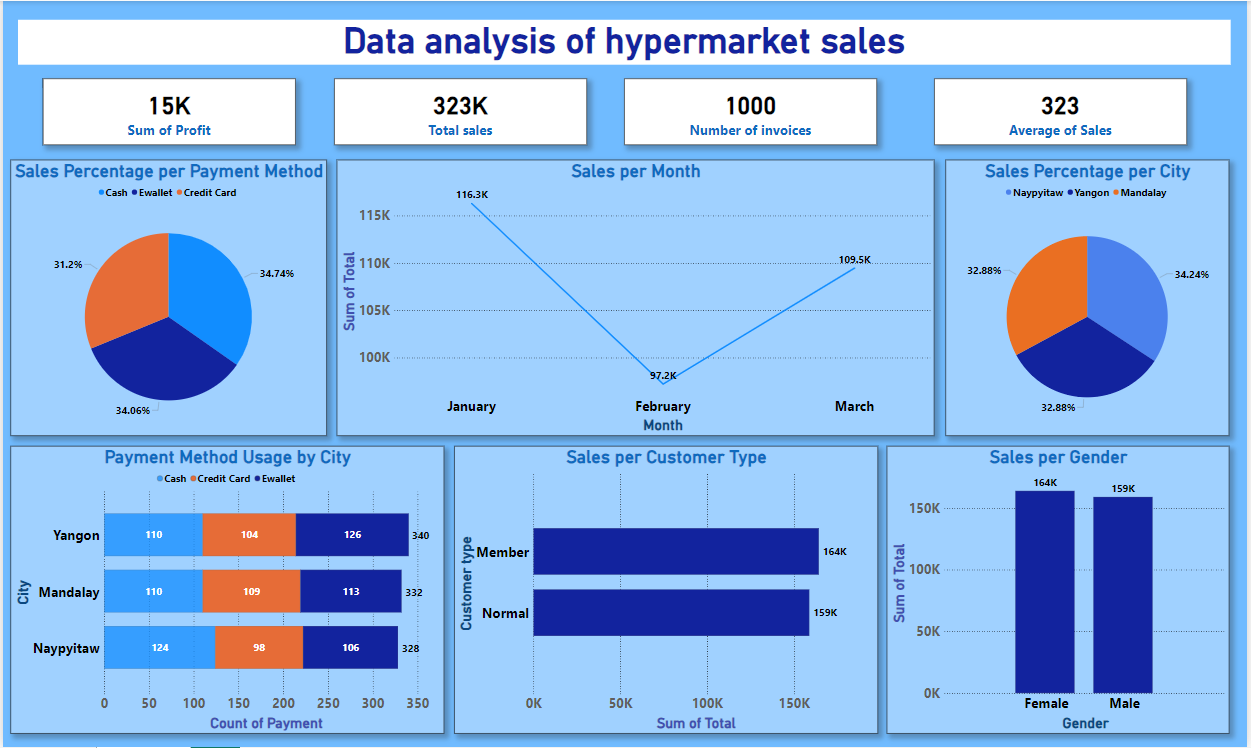

This screenshot's page, from the dashboard's own definition file:
{"tool":"powerbi","page":{"name":"Page 1","canvas":[2500,1500],"ordinal":0},"visuals":[{"type":"card","fields":{"Values":["CountNonNull(Hypermarket_Sales Task (3).Invoice ID)"]},"box":[1249.2,155.8,507.7,133.2],"z":0},{"type":"pieChart","title":"Sales Percentage per City","fields":{"Y":["Sum(Hypermarket_Sales Task (3).Total)"],"Category":["Hypermarket_Sales Task (3).City"]},"box":[1895.1,319.2,570.5,555.5],"z":1000},{"type":"card","fields":{"Values":["Sum(Hypermarket_Sales Task (3).Total)"]},"box":[664.8,155.8,507.7,133.2],"z":2000},{"type":"pieChart","title":"Sales Percentage per Payment Method","fields":{"Y":["Sum(Hypermarket_Sales Task (3).Total)"],"Category":["Hypermarket_Sales Task (3).Payment"]},"box":[15.1,319.2,635.9,555.5],"z":3000},{"type":"card","fields":{"Values":["Avg(Hypermarket_Sales Task (3).Total)"]},"box":[1872.5,155.8,507.7,133.2],"z":4000},{"type":"barChart","title":"Sales per Customer Type","fields":{"Category":["Hypermarket_Sales Task (3).Customer type"],"Y":["Sum(Hypermarket_Sales Task (3).Total)"]},"box":[907.3,894.8,852,578.1],"z":5000},{"type":"barChart","title":"Payment Method Usage by City","fields":{"Category":["Hypermarket_Sales Task (3).City"],"Series":["Hypermarket_Sales Task (3).Payment"],"Y":["CountNonNull(Hypermarket_Sales Task (3).Payment)"]},"box":[15.1,894.8,872.2,578.1],"z":6000},{"type":"columnChart","title":"Sales per Gender","fields":{"Category":["Hypermarket_Sales Task (3).Gender"],"Y":["Sum(Hypermarket_Sales Task (3).Total)"]},"box":[1777,894.8,688.7,578.1],"z":7000},{"type":"lineChart","title":"Sales per Month","fields":{"Y":["Sum(Hypermarket_Sales Task (3).Total)"],"Category":["Hypermarket_Sales Task (3).Date.Variation.Date Hierarchy.Month"]},"box":[671.1,319.2,1201.4,555.5],"z":8000},{"type":"card","title":"Data analysis of hypermarket sales","fields":{"Values":["Min(Hypermarket_Sales Task (3).Gender)"]},"box":[30.2,37.7,2438,90.5],"z":9000},{"type":"card","fields":{"Values":["Sum(Hypermarket_Sales Task (3).Profit)"]},"box":[80.4,155.8,507.7,133.2],"z":10000}]}

Visuals, with their boxes in screenshot pixels (x1, y1, x2, y2), scaled from the page's 2500x1500 canvas onto the 1251x748 screenshot:
card - CountNonNull(Hypermarket_Sales Task (3).Invoice ID): <region>625, 78, 879, 144</region>
"Sales Percentage per City" pieChart: <region>948, 159, 1234, 436</region>
card - Sum(Hypermarket_Sales Task (3).Total): <region>333, 78, 587, 144</region>
"Sales Percentage per Payment Method" pieChart: <region>8, 159, 326, 436</region>
card - Avg(Hypermarket_Sales Task (3).Total): <region>937, 78, 1191, 144</region>
"Sales per Customer Type" barChart: <region>454, 446, 880, 734</region>
"Payment Method Usage by City" barChart: <region>8, 446, 444, 734</region>
"Sales per Gender" columnChart: <region>889, 446, 1234, 734</region>
"Sales per Month" lineChart: <region>336, 159, 937, 436</region>
"Data analysis of hypermarket sales" card: <region>15, 19, 1235, 64</region>
card - Sum(Hypermarket_Sales Task (3).Profit): <region>40, 78, 294, 144</region>
